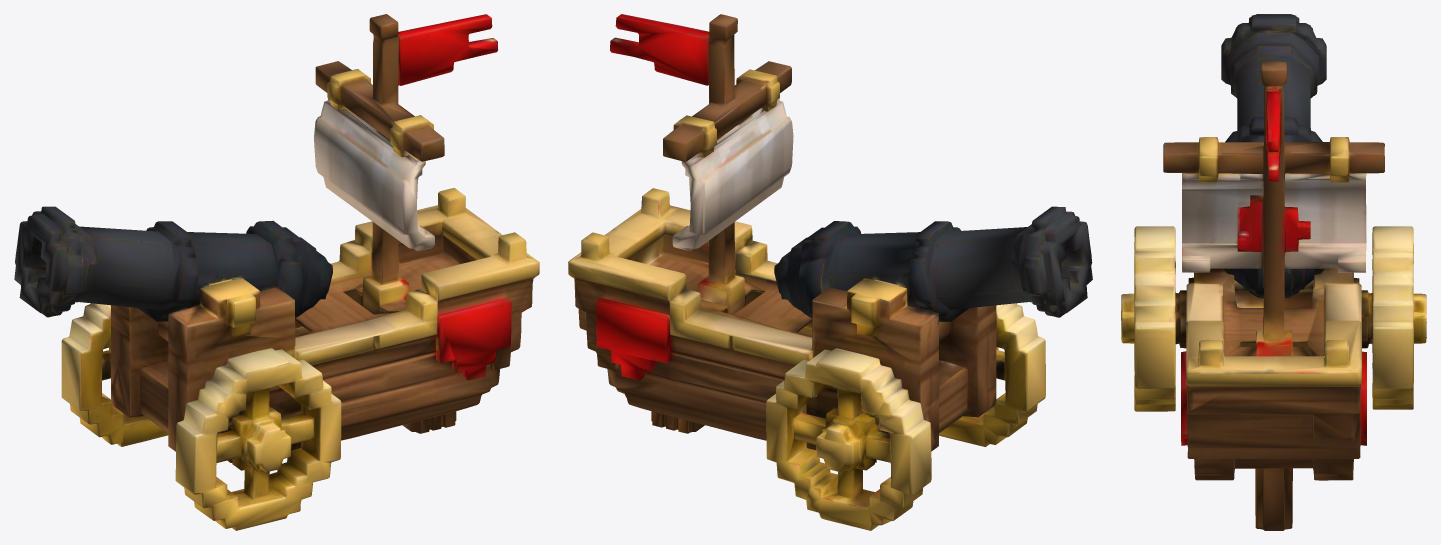
The model's file is cannon.glb.
3 renders of one model, left to right at view 1: azimuth 30°, elevation 25°; view 2: azimuth 150°, elevation 25°; view 3: azimuth 270°, elevation 25°, orthographic. The views are drawn at different scales.
Parts seen in each view (by area): view 1: node_0; view 2: node_0; view 3: node_0.
Boxes of the visible parts, x1,y1,x2,y2 form: node_0: (14,14,539,530); node_0: (568,14,1092,530); node_0: (1121,14,1426,530).
Size of the model in its own units: 0.9818 by 0.831 by 0.5329.
1 material, 1 textured.
